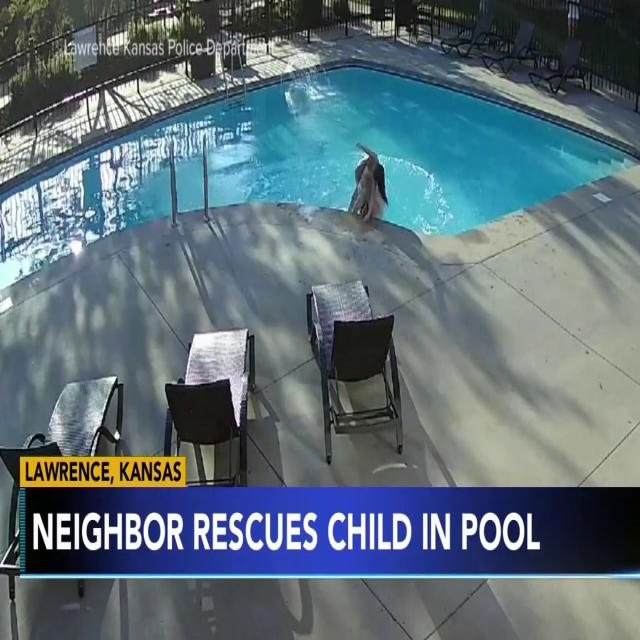adult: (347, 141, 391, 232)
child: (356, 155, 377, 221)
